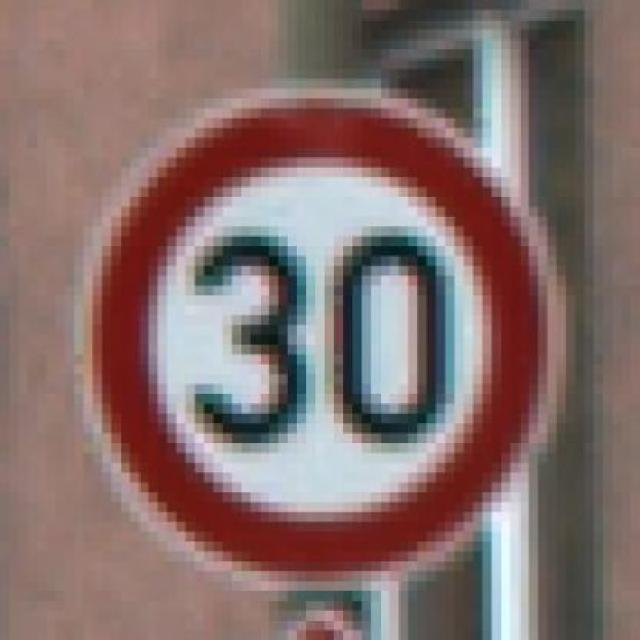Speed Limit 30 KMPh: (47, 79, 576, 601)
